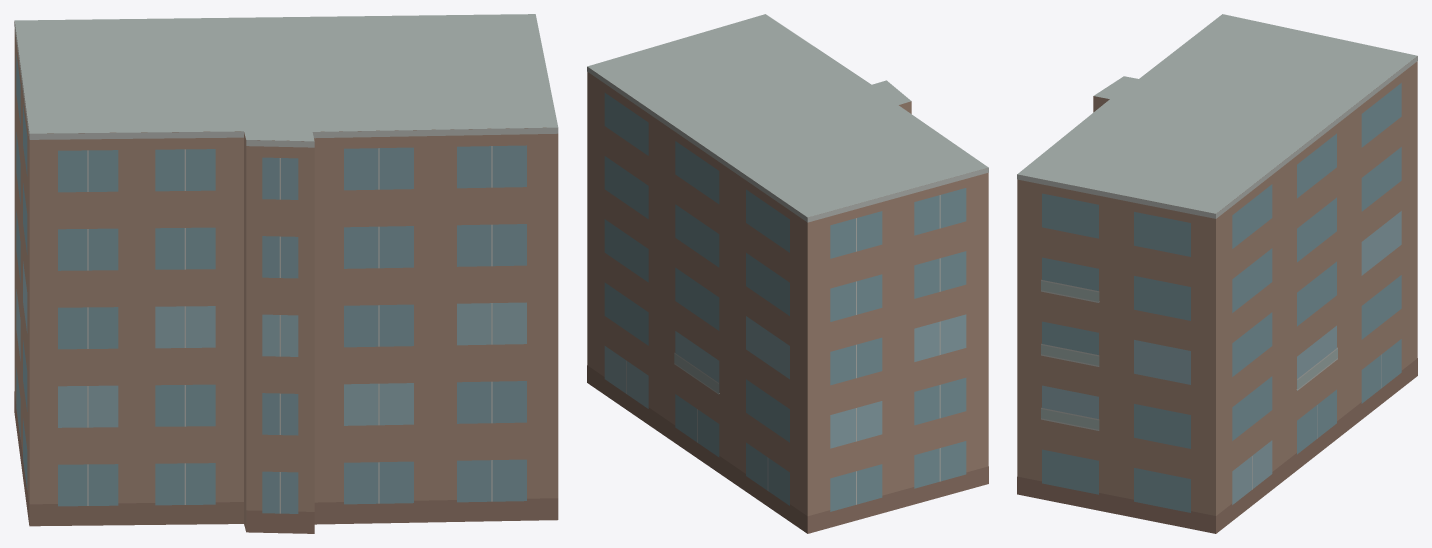
The model's file is survey-upis-32519100.glb.
3 views of the same model, side by side, from view 1: azimuth 30°, elevation 25°; view 2: azimuth 150°, elevation 25°; view 3: azimuth 270°, elevation 25° (orthographic). The views are drawn at different scales.
Parts seen in each view (by area): view 1: survey-upis-32519100.tmp; view 2: survey-upis-32519100.tmp; view 3: survey-upis-32519100.tmp.
Part boxes in pixels (x1,y1,x2,y2): survey-upis-32519100.tmp: (14, 14, 558, 533); survey-upis-32519100.tmp: (587, 14, 988, 533); survey-upis-32519100.tmp: (1017, 14, 1417, 533).
Size of the model in its own units: 20.43 by 15.25 by 17.31.
